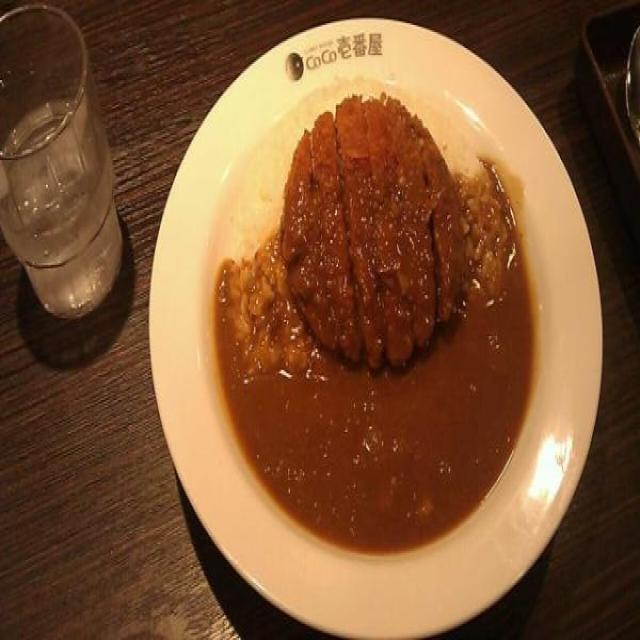猪肉菜式: (136, 9, 609, 640)
